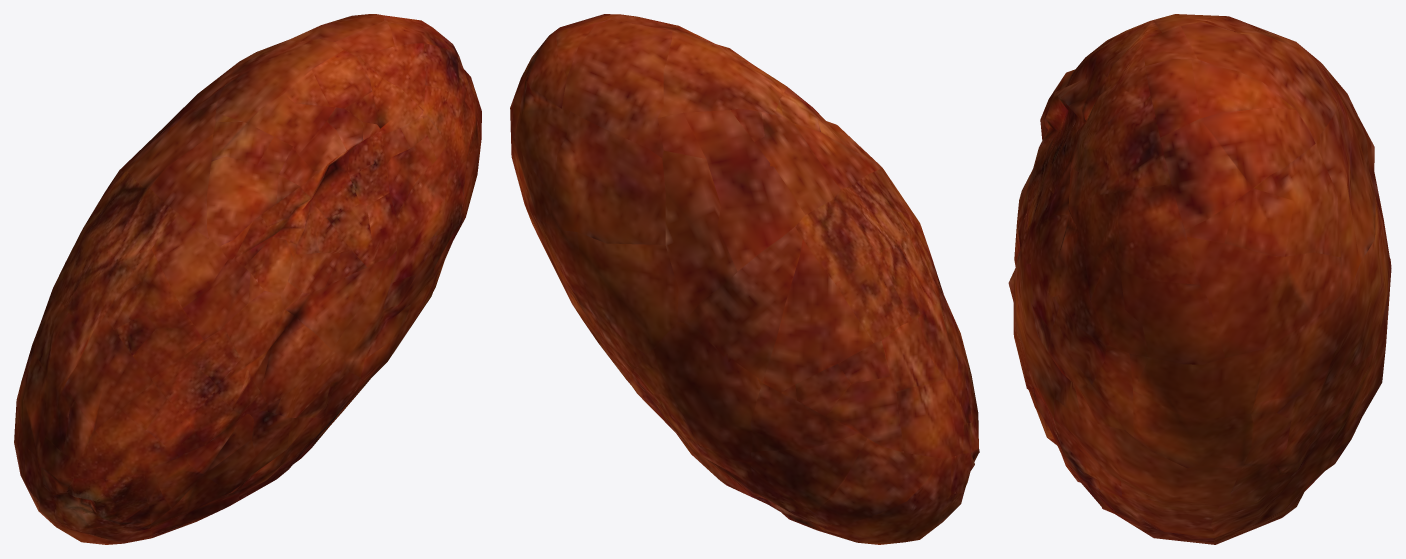
File: cocoa-bean.glb
3 renders of one model, left to right at view 1: azimuth 30°, elevation 25°; view 2: azimuth 150°, elevation 25°; view 3: azimuth 270°, elevation 25°, orthographic. The views are drawn at different scales.
Size of the model in its own units: 1.88 by 1.85 by 1.04.
1 material, 1 textured.
